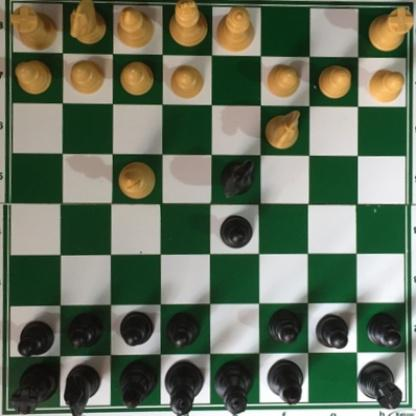black-bishop: (120, 363, 161, 411), (264, 359, 305, 405)
black-king: (165, 361, 206, 415)
black-knight: (62, 363, 101, 415), (220, 158, 259, 201)
black-pawn: (366, 311, 409, 350), (270, 310, 309, 347), (219, 214, 256, 253), (17, 323, 55, 360), (167, 309, 202, 348), (70, 310, 105, 349), (120, 311, 156, 347), (316, 316, 351, 351)
black-queen: (214, 361, 257, 415)
black-rook: (12, 362, 60, 415), (357, 362, 404, 413)
white-bishop: (113, 159, 158, 207), (114, 5, 154, 53)
white-king: (168, 0, 211, 50)
white-knight: (70, 0, 107, 47), (264, 110, 303, 152)
white-pawn: (366, 65, 408, 107), (316, 61, 355, 102), (12, 60, 55, 95), (117, 57, 155, 96), (169, 63, 206, 101), (266, 64, 304, 100), (69, 61, 106, 94)
white-queen: (216, 4, 259, 56)
white-rook: (367, 5, 415, 55), (11, 4, 59, 52)
